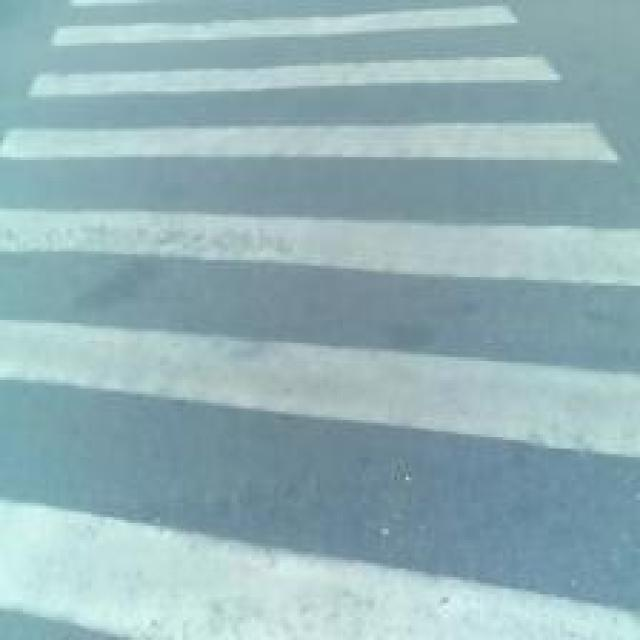zebra: (56, 11, 602, 603)
